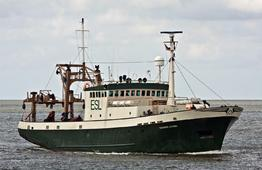otherboat: (10, 15, 244, 156)
